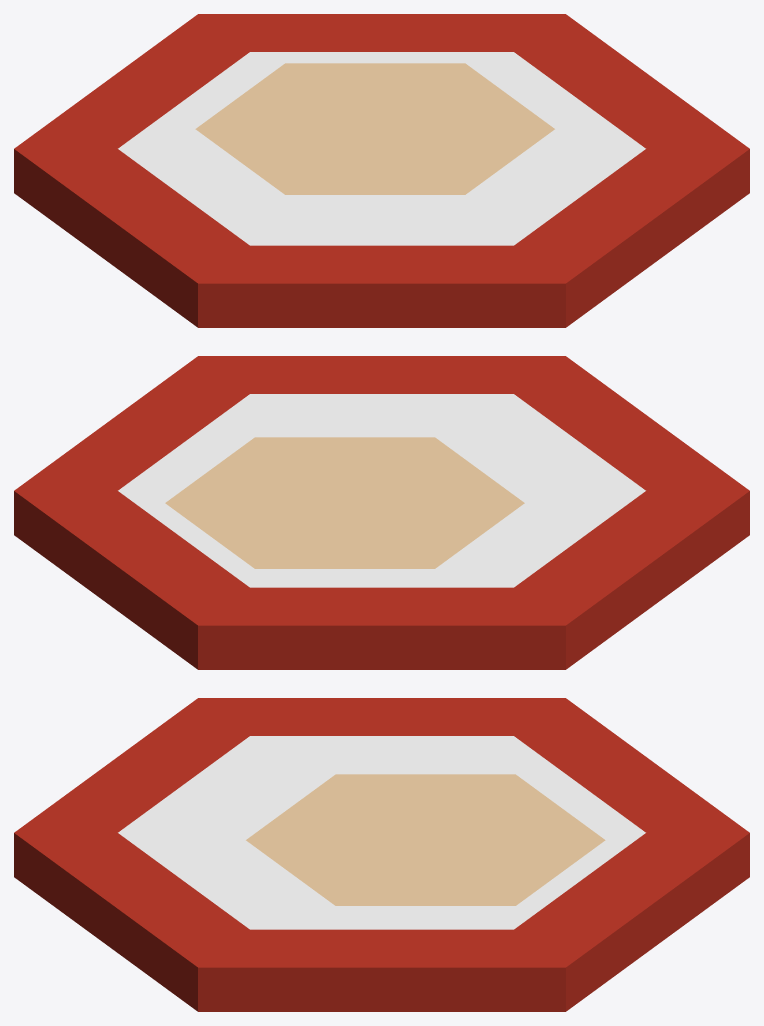
The model's file is platform_red.fbx.
3 views of the same model, one above another, from view 1: azimuth 30°, elevation 25°; view 2: azimuth 150°, elevation 25°; view 3: azimuth 270°, elevation 25° (orthographic).
Parts seen in each view (by area): view 1: Circle; view 2: Circle; view 3: Circle.
Boxes of the visible parts, x1,y1,x2,y2 form: Circle: [14, 14, 749, 327]; Circle: [14, 356, 749, 669]; Circle: [14, 698, 749, 1011].
Bounding box in the file's own units: 313 × 23.99 × 361.
